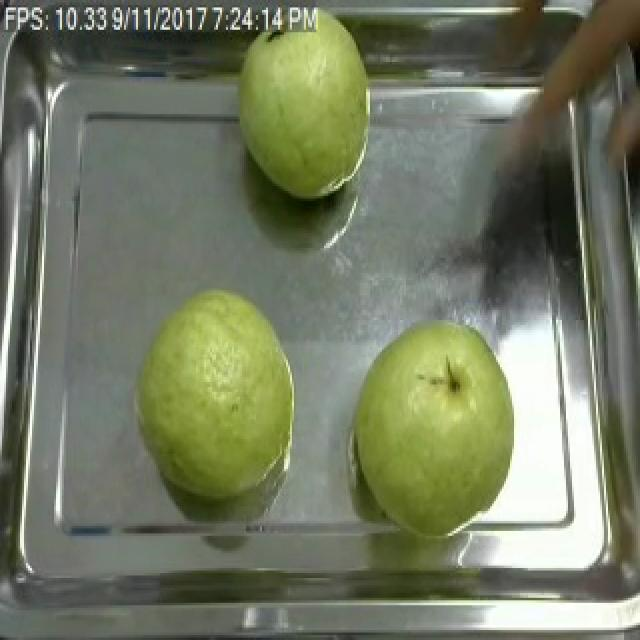Fruit: (342, 305, 528, 541), (126, 278, 304, 506), (228, 8, 382, 208)
